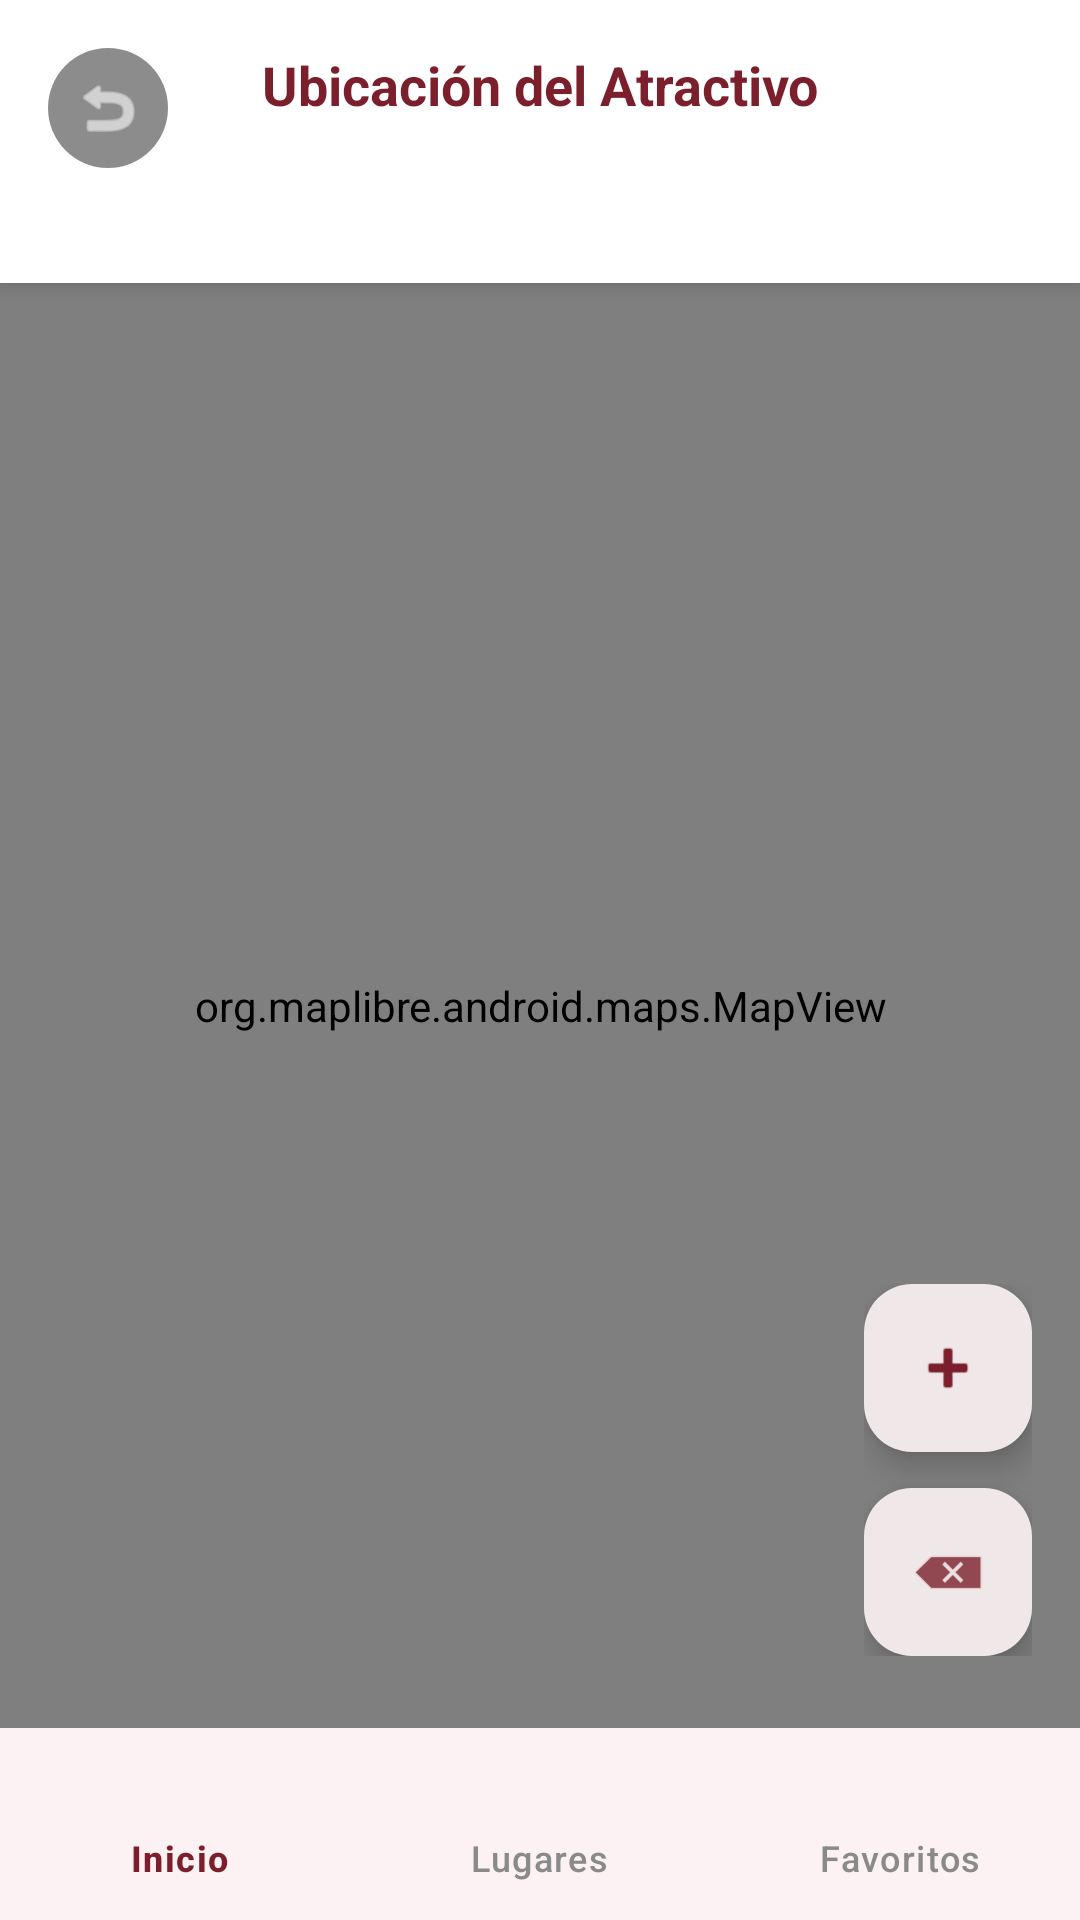

Screen size 1080 × 1920. Icon name, then its center in pixels as (x,y):
Acercar mapa: (948,1368)
Volver a la pantalla anterior: (108,108)
